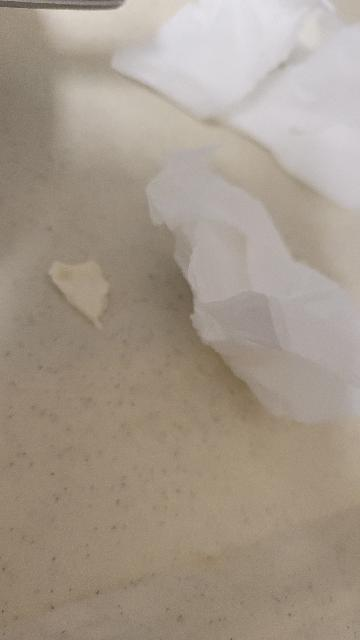Kagit: (129, 142, 360, 437)
